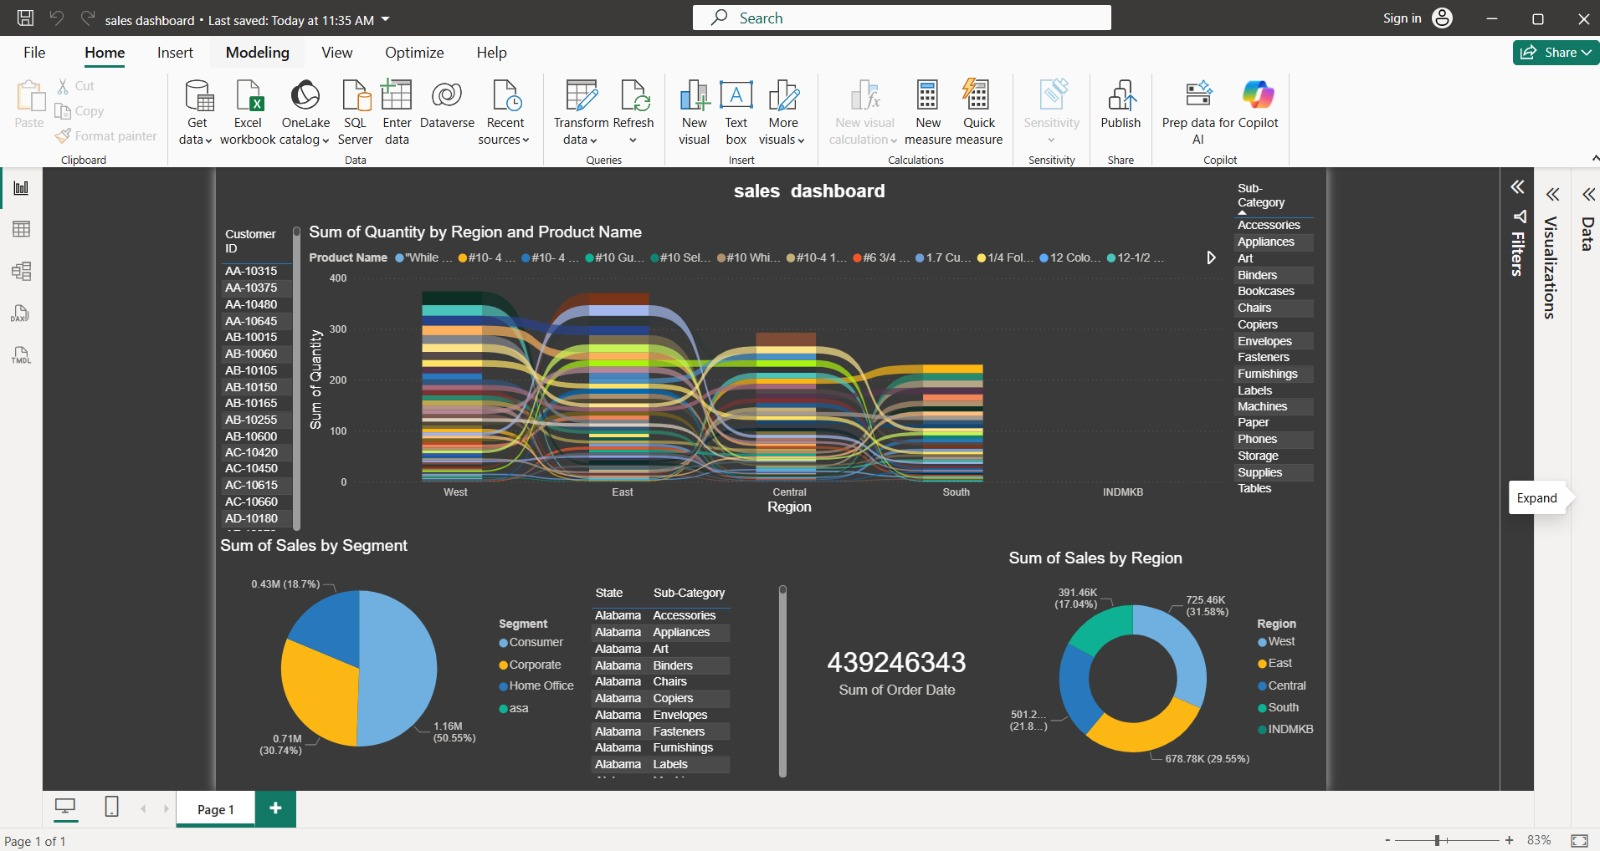

This screenshot's page, from the dashboard's own definition file:
{"tool":"powerbi","page":{"name":"Page 1","canvas":[1280,720],"ordinal":0},"visuals":[{"type":"donutChart","fields":{"Category":["Orders.Region"],"Y":["Sum(Orders.Sales)"]},"box":[909.8,440.5,370.5,279.9],"z":0},{"type":"textbox","box":[190.7,11,876.8,53.5],"z":1},{"type":"tableEx","fields":{"Values":["Orders.Sub-Category"]},"box":[1167.8,11,112.5,414.4],"z":2},{"type":"pieChart","fields":{"Category":["Orders.Segment"],"Y":["Sum(Orders.Sales)"]},"box":[0,425.4,426.8,285.4],"z":3},{"type":"card","fields":{"Values":["Sum(Orders.Order Date)"]},"box":[662.8,440.5,247,279.9],"z":4},{"type":"tableEx","fields":{"Values":["Orders.Customer ID"]},"box":[0,64.5,102.9,360.9],"z":5},{"type":"ribbonChart","fields":{"Category":["Orders.Region"],"Series":["Orders.Product Name"],"Y":["Sum(Orders.Quantity)"]},"box":[102.9,64.5,1064.8,341.7],"z":6},{"type":"tableEx","fields":{"Values":["Orders.State","Orders.Sub-Category"]},"box":[426.8,477.5,236,231.9],"z":7}]}

Visuals, with their boxes in screenshot pixels (x1, y1, x2, y2):
donutChart - Orders.Region x Sum(Orders.Sales): (1097,467,1528,793)
textbox: (260,0,1280,29)
tableEx - Orders.Sub-Category: (1397,0,1528,449)
pieChart - Orders.Segment x Sum(Orders.Sales): (38,449,534,782)
card - Sum(Orders.Order Date): (809,467,1097,793)
tableEx - Orders.Customer ID: (38,29,157,449)
ribbonChart - Orders.Region x Orders.Product Name: (157,29,1397,427)
tableEx - Orders.State x Orders.Sub-Category: (534,510,809,780)
